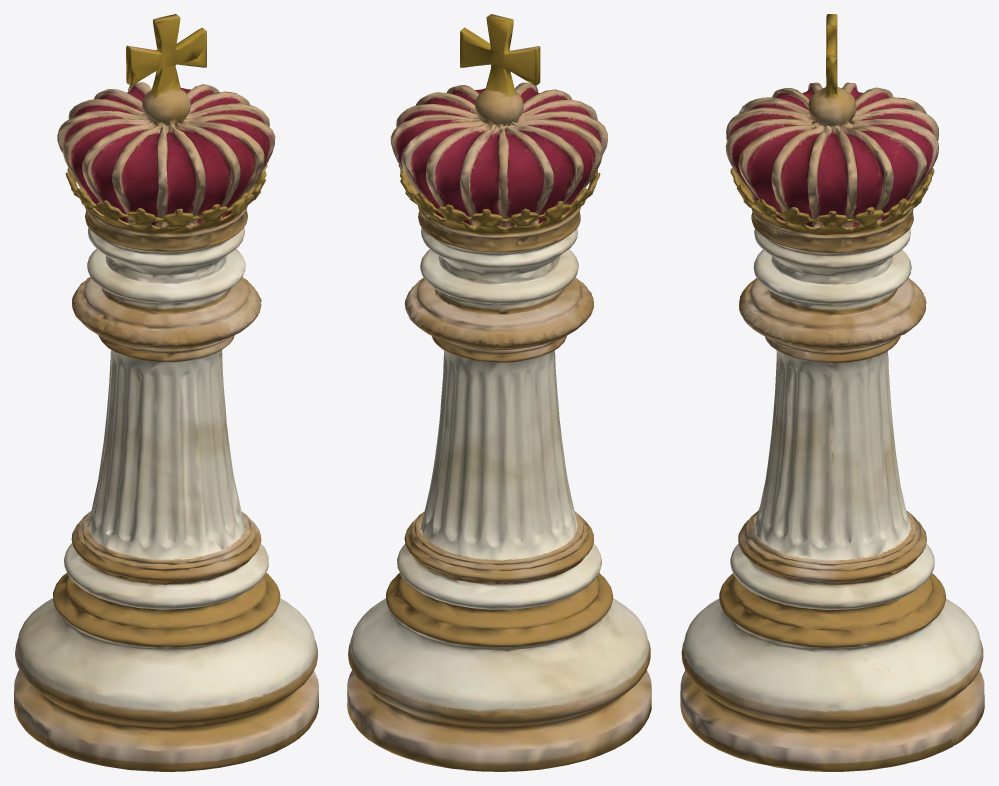
The model's file is king-classic-re-50k.glb.
3 renders of one model, left to right at view 1: azimuth 30°, elevation 25°; view 2: azimuth 150°, elevation 25°; view 3: azimuth 270°, elevation 25°, orthographic.
Visible parts, largest first — view 1: world; view 2: world; view 3: world.
Boxes of the visible parts, x1=… form: world: x1=14, y1=14, x2=318, y2=771; world: x1=347, y1=14, x2=651, y2=771; world: x1=680, y1=14, x2=984, y2=771.
Size of the model in its own units: 0.72 by 1.8 by 0.7199.
Materials: 1 (1 with a texture image).
